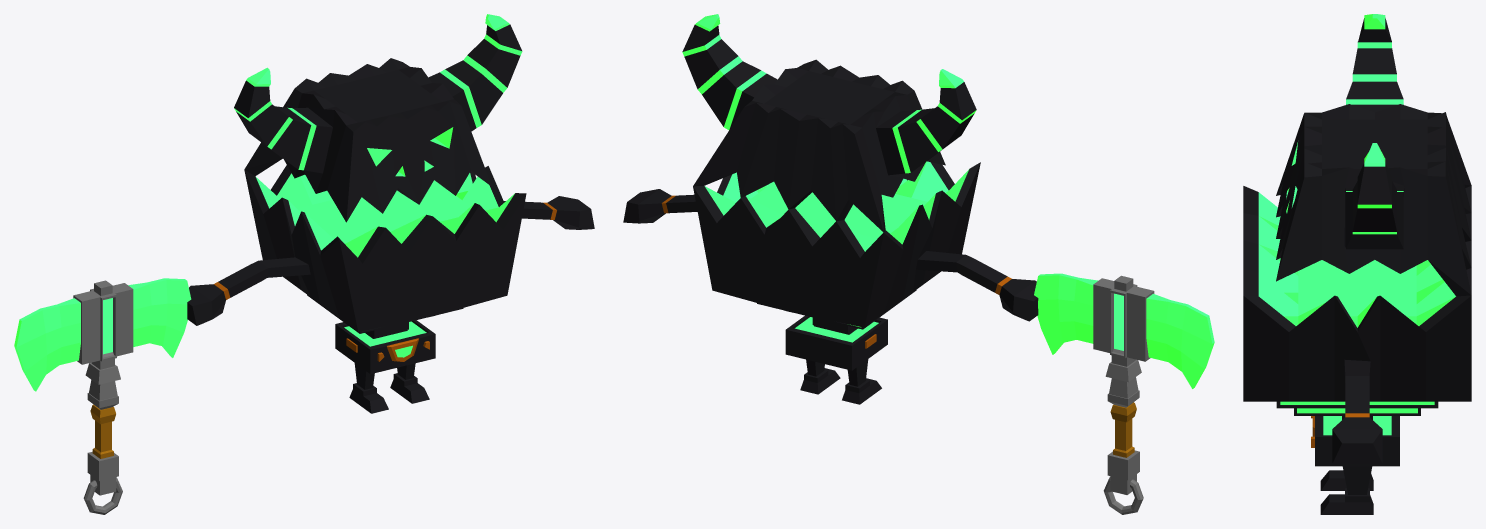
File: SoldierEnemy.fbx
The picture shows the model from 3 angles, left to right: view 1: azimuth 30°, elevation 25°; view 2: azimuth 150°, elevation 25°; view 3: azimuth 270°, elevation 25°; orthographic projection. The views are drawn at different scales.
Visible parts, largest first — view 1: Cube, Cube.004; view 2: Cube, Cube.004; view 3: Cube.
Part boxes in pixels (box(x1,y1,x2,y2)): Cube: box(187, 14, 594, 413); Cube.004: box(14, 278, 191, 514); Cube: box(623, 14, 1038, 404); Cube.004: box(1034, 273, 1214, 514); Cube: box(1243, 14, 1471, 514).
Size of the model in its own units: 195 by 131 by 56.26.
